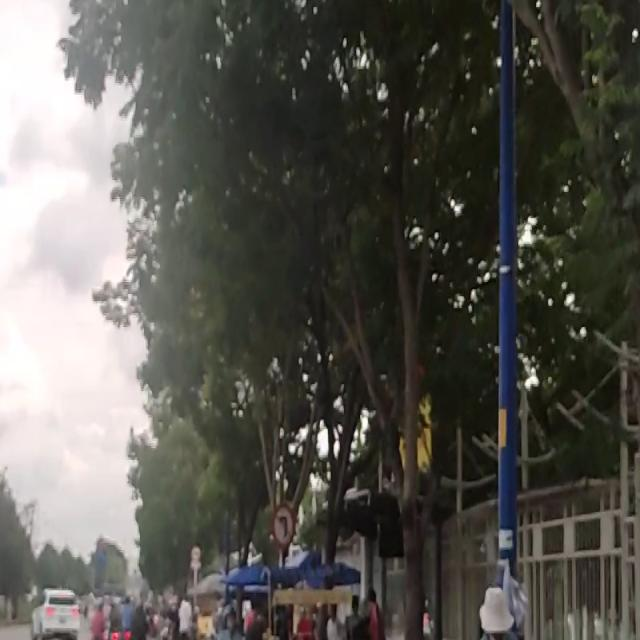Bien bao cam re trai: (269, 499, 297, 550)
